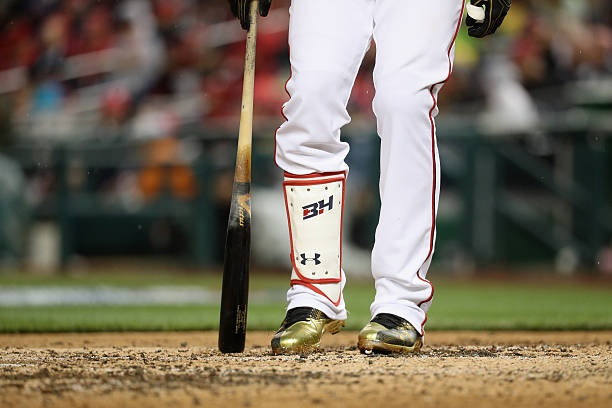bita: (206, 1, 263, 353)
